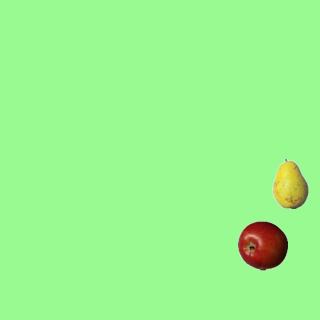Apple Braeburn: (237, 220, 287, 270)
Pear Monster: (265, 158, 315, 208)
